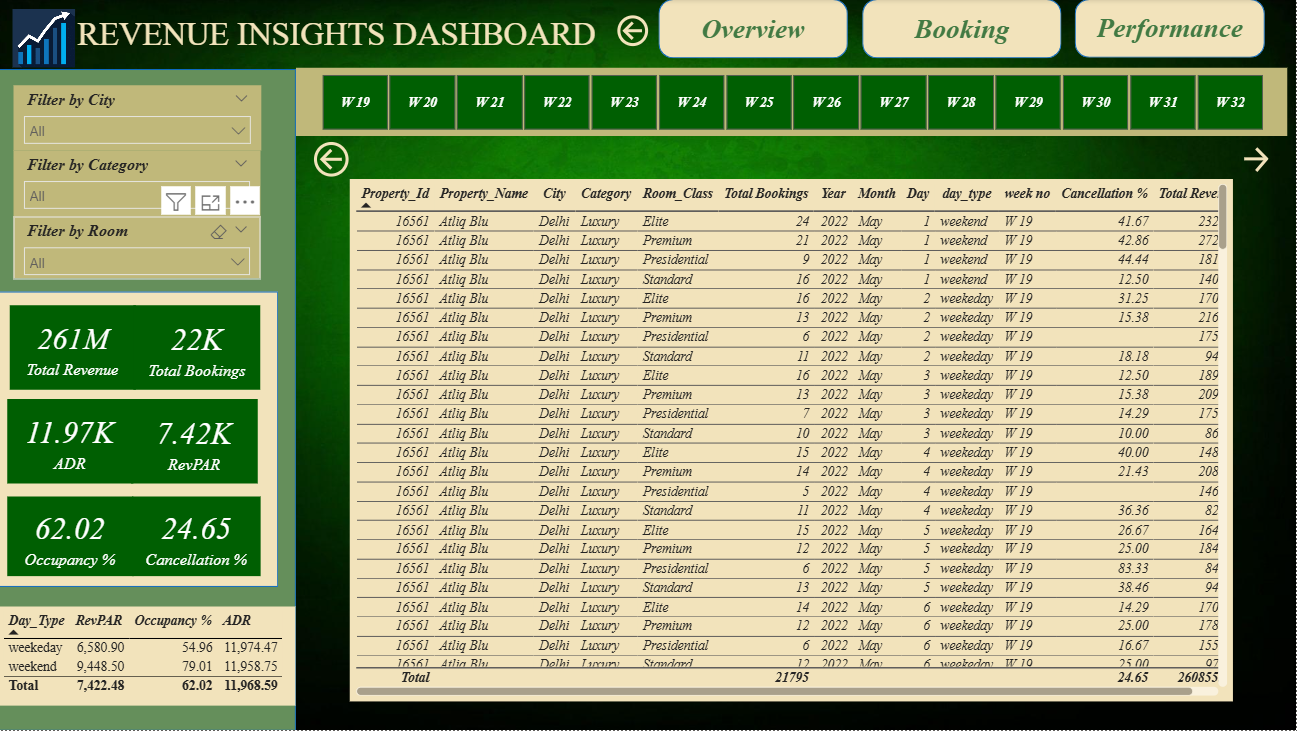

Layout of this report page (visuals, bound fields, positions):
{"tool":"powerbi","page":{"name":"Property Details","canvas":[1280,720],"ordinal":4},"visuals":[{"type":"image","title":"Background_Image","box":[0,0,1280,720],"z":0},{"type":"image","title":"Logo_revenue","box":[10,10,73.8,57.8],"z":1000},{"type":"textbox","title":"Heading","box":[74.7,10.7,567.1,60.4],"z":2000},{"type":"shape","title":"Overview_BTN","box":[652.5,0,186.4,58.4],"z":3000},{"type":"shape","title":"Booking_BTN","box":[852.9,0,196.2,58.4],"z":4000},{"type":"shape","title":"Performance_BTN","box":[1062.2,0,187.1,57.8],"z":5000},{"type":"slicer","title":"Week Slicer","fields":{"Values":["dim_date.week no"]},"box":[295.1,67.6,976,67.6],"z":6000},{"type":"shape","title":"Shape_Home","box":[0,68.4,295.3,651.6],"z":7000},{"type":"slicer","title":"Filter by City","fields":{"Values":["dim_hotels.City"]},"box":[17.2,84.9,243.7,64],"z":8000},{"type":"slicer","title":"Filter by Category","fields":{"Values":["dim_hotels.Category"]},"box":[17.5,148.4,243.1,66.1],"z":9000},{"type":"slicer","title":"Filter by Room Class","fields":{"Values":["dim_rooms.Room_Class"]},"box":[17.5,214.4,243.1,61.1],"z":10000},{"type":"shape","title":"KPI_Shape","box":[0,288,277.8,290.9],"z":11000},{"type":"card","title":"Total_revenue","fields":{"Values":["fact_bookings.Total Revenue"]},"box":[13.1,301.1,123.6,82.9],"z":12000},{"type":"card","title":"Total_Bookings","fields":{"Values":["fact_bookings.Total Bookings"]},"box":[135.3,301.1,125.1,82.9],"z":13000},{"type":"card","title":"ADR","fields":{"Values":["fact_bookings.ADR"]},"box":[11.6,394.2,123.6,82.9],"z":14000},{"type":"card","title":"RevPAR","fields":{"Values":["fact_bookings.RevPAR"]},"box":[133.4,394,124.7,83.5],"z":15000},{"type":"card","title":"Occupancy %","fields":{"Values":["fact_bookings.Occupancy %"]},"box":[11.6,490.2,123.6,78.5],"z":16000},{"type":"card","title":"Cancellation %","fields":{"Values":["fact_bookings.Cancellation %"]},"box":[133.8,490.2,126.5,78.5],"z":17000},{"type":"tableEx","title":"week_days table","fields":{"Values":["dim_date.day_type","fact_bookings.RevPAR","fact_bookings.Occupancy %","fact_bookings.ADR"]},"box":[1.5,597.8,293.8,97.5],"z":18000},{"type":"actionButton","title":"Back_BTN","box":[307.7,135.9,50,44.9],"z":19000},{"type":"actionButton","title":"ToolTip_BTN","box":[1223.1,141,47.4,33.3],"z":20000},{"type":"tableEx","title":"Property_table","fields":{"Values":["dim_hotels.Property_Id","dim_hotels.Property_Name","dim_hotels.City","dim_hotels.Category","dim_rooms.Room Hierarchy.Room_Class","fact_bookings.Total Bookings","dim_date.date.Variation.Date Hierarchy.Year","dim_date.date.Variation.Date Hierarchy.Month","dim_date.date.Variation.Date Hierarchy.Day","dim_date.day_type","dim_date.week no","fact_bookings.Cancellation %"]},"box":[348.7,176.9,869.2,514.1],"z":21000},{"type":"actionButton","title":"Home_BTN","box":[606.6,11.1,45.9,40.3],"z":22000}]}

Visuals, with their boxes in screenshot pixels (x1, y1, x2, y2), scaled from the page's 1280x720 canvas onto the 1297x731 screenshot:
"Background_Image" image: (0, 0, 1296, 730)
"Logo_revenue" image: (10, 10, 85, 69)
"Heading" textbox: (76, 11, 650, 72)
"Overview_BTN" shape: (661, 0, 850, 59)
"Booking_BTN" shape: (864, 0, 1063, 59)
"Performance_BTN" shape: (1076, 0, 1266, 59)
"Week Slicer" slicer: (299, 69, 1288, 137)
"Shape_Home" shape: (0, 69, 299, 730)
"Filter by City" slicer: (17, 86, 264, 151)
"Filter by Category" slicer: (18, 151, 264, 218)
"Filter by Room Class" slicer: (18, 218, 264, 280)
"KPI_Shape" shape: (0, 292, 281, 588)
"Total_revenue" card: (13, 306, 139, 390)
"Total_Bookings" card: (137, 306, 264, 390)
"ADR" card: (12, 400, 137, 484)
"RevPAR" card: (135, 400, 262, 485)
"Occupancy %" card: (12, 498, 137, 577)
"Cancellation %" card: (136, 498, 264, 577)
"week_days table" tableEx: (2, 607, 299, 706)
"Back_BTN" actionButton: (312, 138, 362, 184)
"ToolTip_BTN" actionButton: (1239, 143, 1287, 177)
"Property_table" tableEx: (353, 180, 1234, 702)
"Home_BTN" actionButton: (615, 11, 661, 52)
